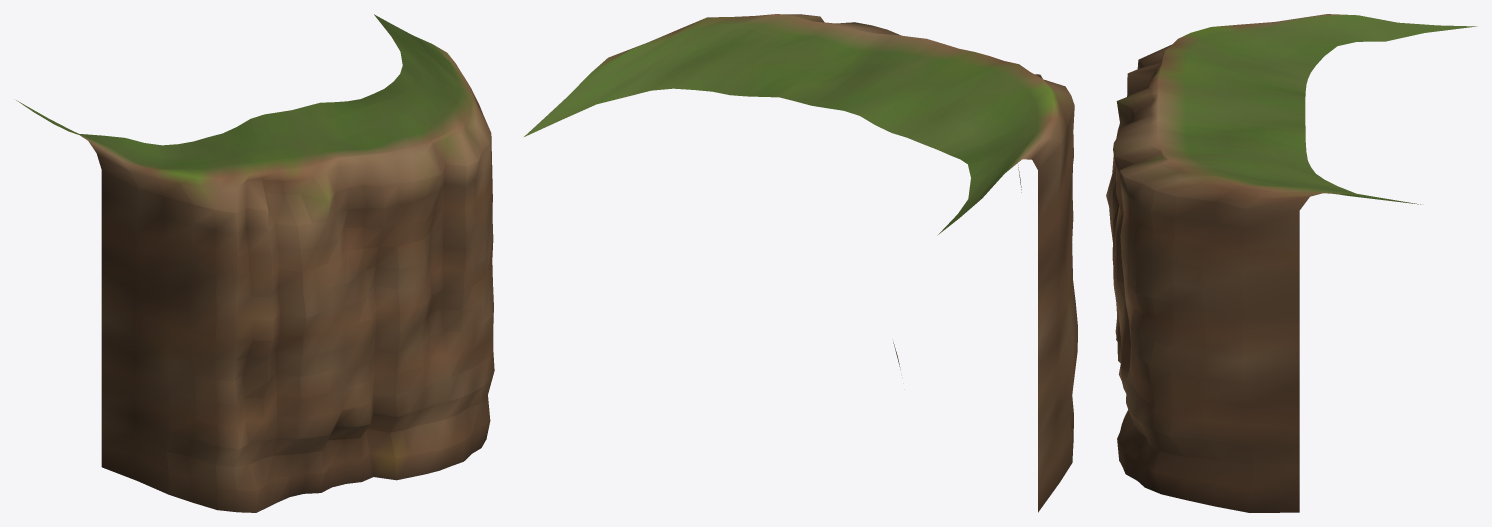
File: cliff-face-a.lod1.glb
The picture shows the model from 3 angles, left to right: view 1: azimuth 30°, elevation 25°; view 2: azimuth 150°, elevation 25°; view 3: azimuth 270°, elevation 25°; orthographic projection. The views are drawn at different scales.
Size of the model in its own units: 7.36 by 6.33 by 6.47.
